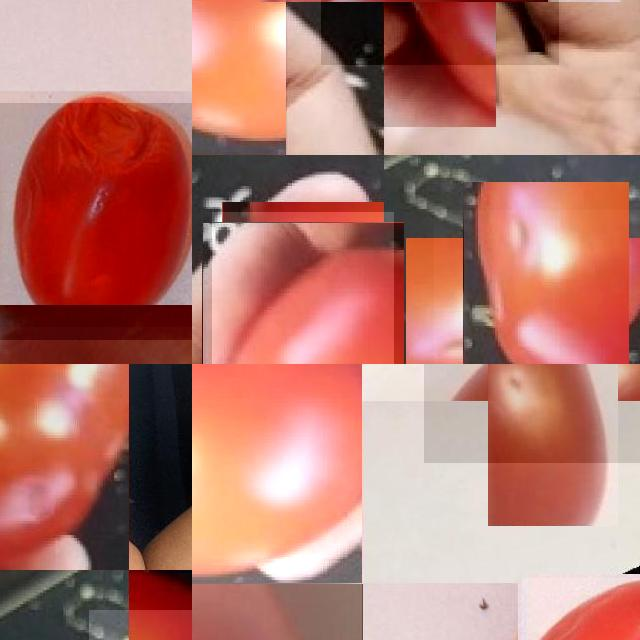Fresh Tomato: (192, 364, 362, 583), (434, 210, 640, 364), (211, 212, 394, 364), (0, 364, 129, 570), (424, 364, 640, 463), (321, 0, 558, 64), (192, 0, 286, 155)
Rotten Tomato: (0, 103, 192, 339)
